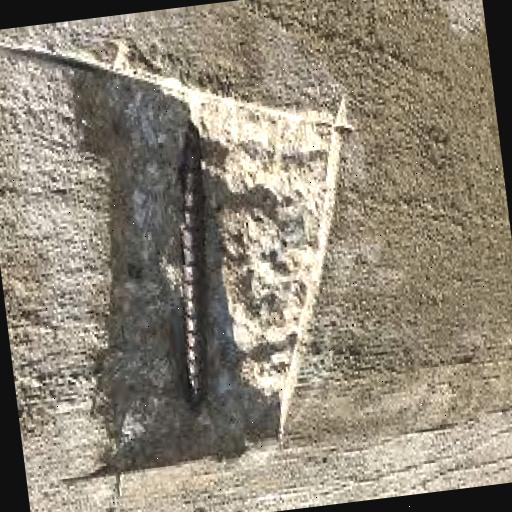spalling: (80, 57, 327, 465)
